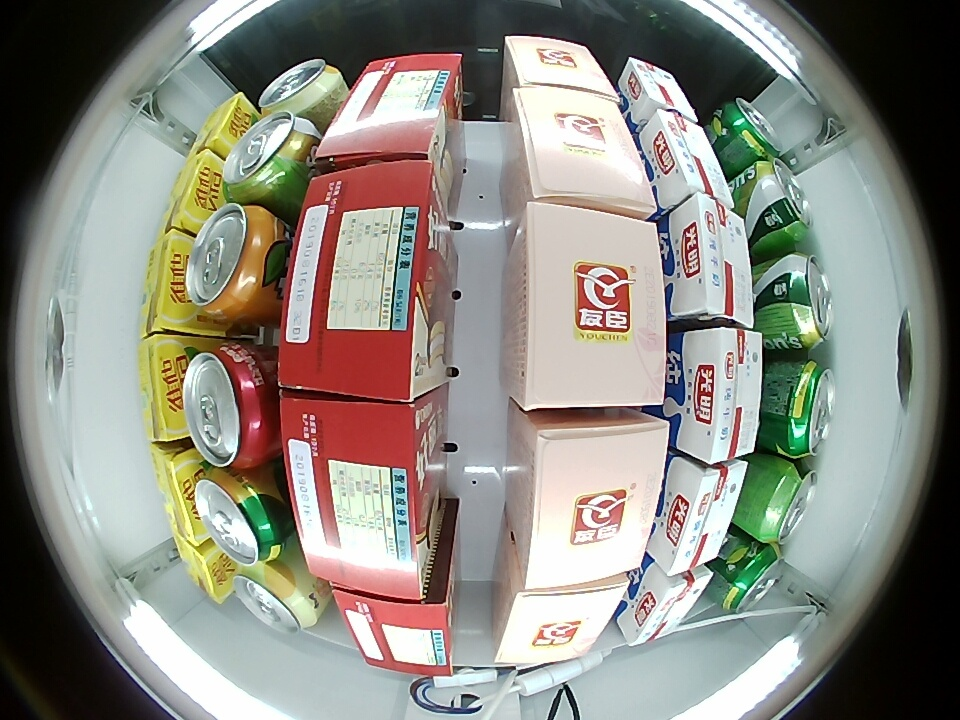fenda: (185, 203, 270, 320)
haoliyou: (278, 160, 441, 405), (280, 396, 437, 601), (314, 53, 463, 174), (332, 586, 454, 676)
kele: (183, 343, 275, 468)
mangguoxiaolao: (234, 562, 319, 635), (258, 58, 344, 118)
niunai: (673, 327, 764, 463), (668, 192, 754, 327), (658, 459, 749, 574), (644, 109, 734, 207), (619, 564, 715, 647), (619, 57, 699, 124)
qinningshui: (747, 459, 819, 543)
quchenshixiangcao: (221, 112, 314, 201), (749, 159, 813, 244), (778, 253, 833, 350)
rousongbing: (510, 200, 667, 410), (514, 411, 669, 591), (512, 87, 657, 217), (493, 574, 628, 666), (501, 35, 618, 101)
weitaningmeng: (150, 442, 208, 548), (140, 227, 193, 335), (138, 334, 189, 442), (161, 148, 223, 235), (169, 526, 234, 605), (189, 91, 251, 159)
xuebi2: (195, 469, 287, 566), (780, 360, 836, 458), (718, 545, 786, 612), (717, 97, 782, 161)
